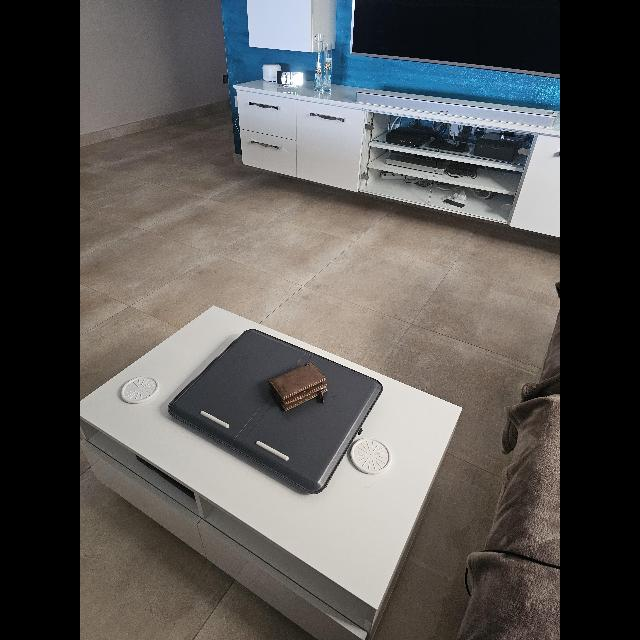Wallet: (268, 362, 328, 412)
